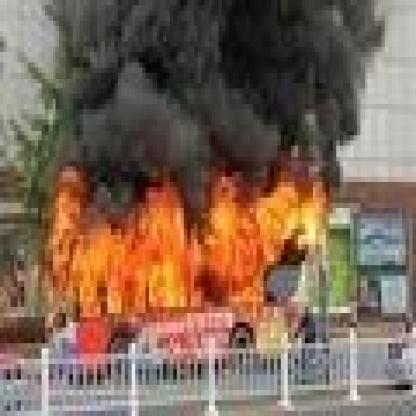fire: (45, 166, 326, 357)
smoke: (40, 0, 386, 203)
